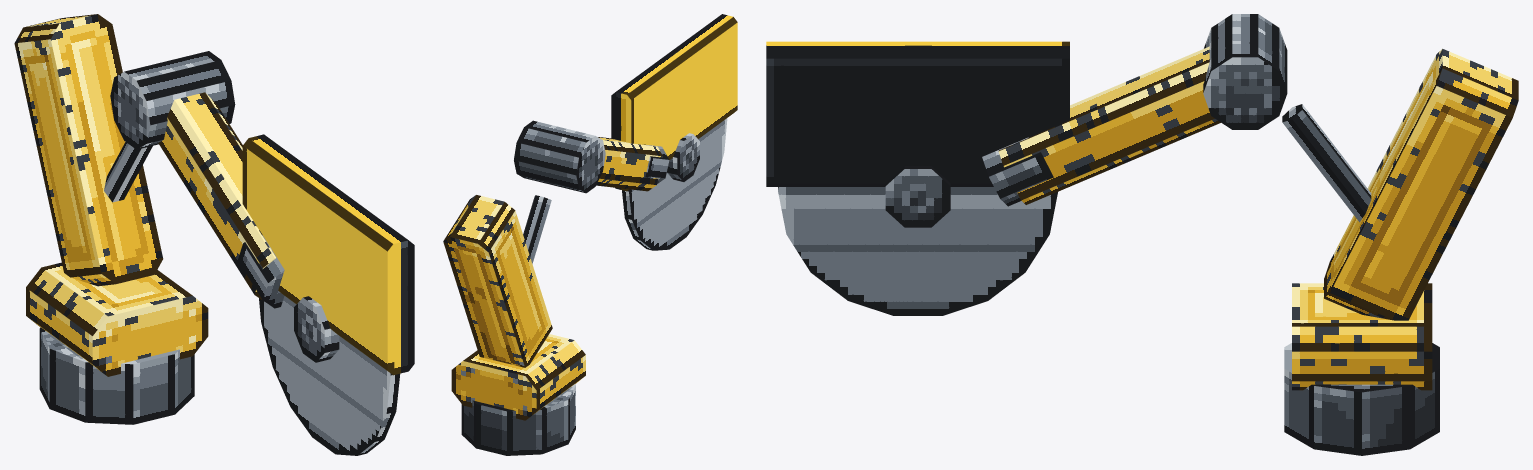
Rendered from cy_saw.glb.
The picture shows the model from 3 angles, left to right: view 1: azimuth 30°, elevation 25°; view 2: azimuth 150°, elevation 25°; view 3: azimuth 270°, elevation 25°; orthographic projection. The views are drawn at different scales.
Visible parts, largest first — view 1: boom, guard, base, blade, turret, fore, elbow, hub, wrist, piston; view 2: boom, guard, base, blade, turret, elbow, fore, hub, piston, wrist; view 3: guard, boom, blade, fore, base, turret, elbow, piston, hub, wrist.
Part boxes in pixels (x1,y1,x2,y2): boom: (14, 14, 163, 286); guard: (242, 134, 414, 375); base: (26, 262, 208, 376); blade: (259, 296, 400, 455); turret: (39, 327, 194, 424); fore: (158, 92, 275, 299); elbow: (110, 51, 235, 149); hub: (294, 296, 339, 362); wrist: (237, 230, 284, 308); piston: (104, 142, 152, 202); boom: (443, 195, 552, 367); guard: (611, 14, 737, 191); base: (451, 334, 585, 420); blade: (622, 118, 727, 250); turret: (461, 384, 575, 455); elbow: (514, 120, 605, 193); fore: (596, 137, 662, 191); hub: (666, 133, 699, 181); piston: (523, 195, 551, 263); wrist: (643, 144, 669, 183); guard: (766, 41, 1069, 186); boom: (1324, 48, 1518, 320); blade: (778, 187, 1057, 315); fore: (998, 46, 1220, 204); base: (1292, 283, 1432, 390); turret: (1284, 343, 1439, 455); elbow: (1203, 14, 1287, 129); piston: (1282, 104, 1371, 222); hub: (885, 166, 950, 227); wrist: (982, 134, 1053, 206).
Size of the model in its own units: 7 by 18.21 by 32.2.
1 material, 1 textured.
